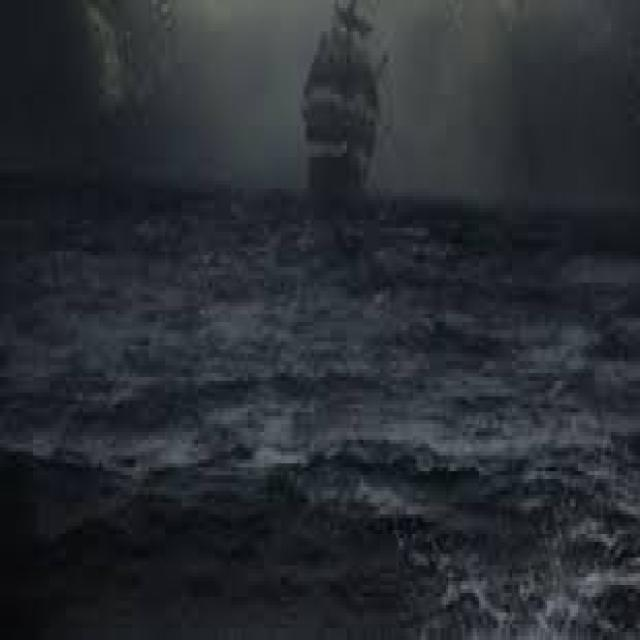navalvessels: (289, 10, 394, 221)
